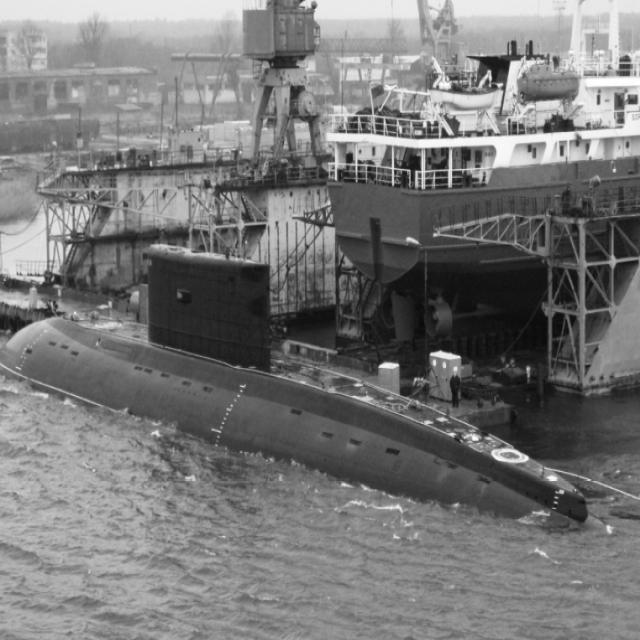submarine: (1, 243, 607, 533)
